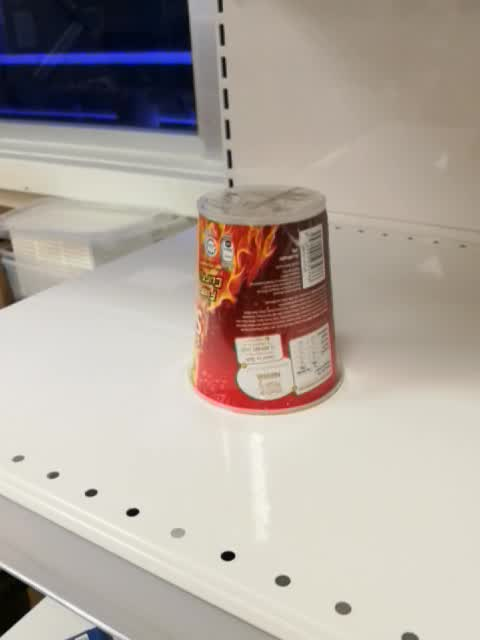maggi: (185, 183, 350, 416)
